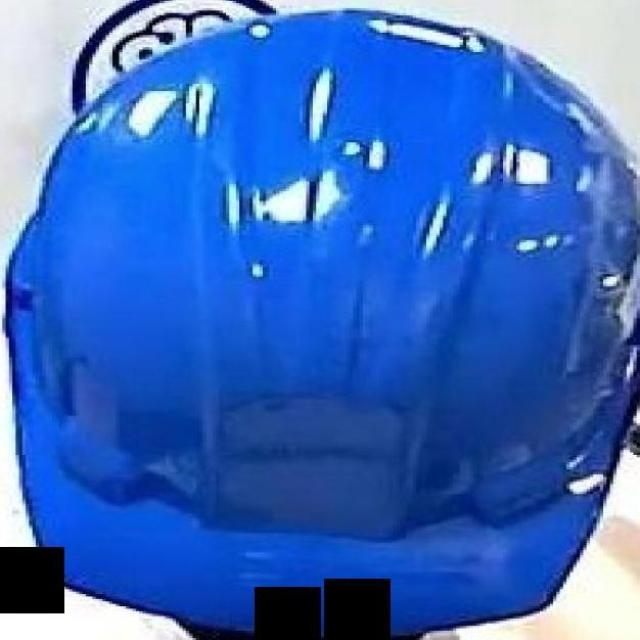blue helmet: (1, 12, 640, 640)
